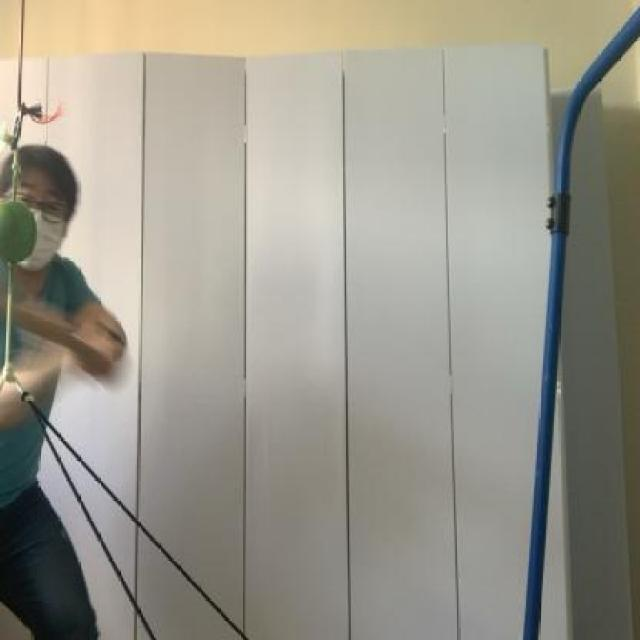baseball: (0, 180, 37, 265)
